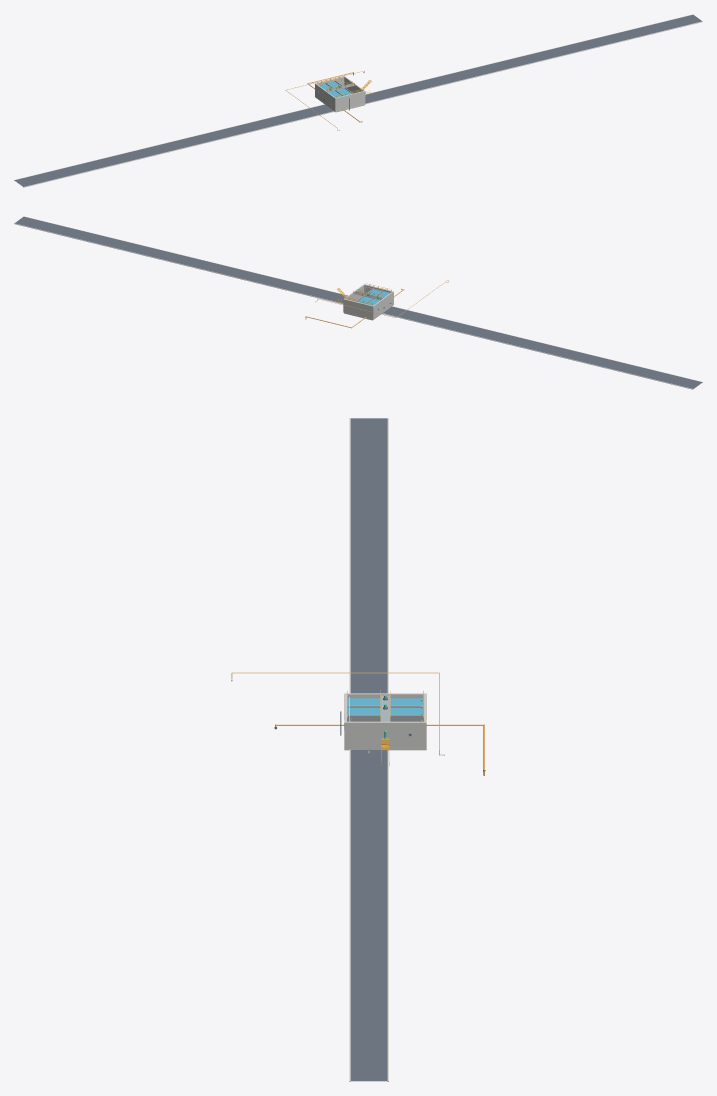
3 renders of one model, top to bottom at view 1: azimuth 30°, elevation 25°; view 2: azimuth 150°, elevation 25°; view 3: azimuth 270°, elevation 25°, orthographic. The views are drawn at different scales.
Parts seen in each view (by area): view 1: render-batch-3, render-batch-10, render-batch-8; view 2: render-batch-3, render-batch-10, render-batch-8; view 3: render-batch-3, render-batch-8, render-batch-10, render-batch-2.
Boxes of the visible parts, bbox=[...] form: render-batch-3: bbox=[14, 14, 701, 186]; render-batch-10: bbox=[14, 14, 702, 187]; render-batch-8: bbox=[315, 76, 365, 112]; render-batch-3: bbox=[15, 216, 702, 388]; render-batch-10: bbox=[14, 216, 702, 389]; render-batch-8: bbox=[343, 284, 393, 320]; render-batch-3: bbox=[350, 418, 387, 1081]; render-batch-8: bbox=[344, 693, 426, 750]; render-batch-10: bbox=[349, 418, 388, 1081]; render-batch-2: bbox=[348, 698, 422, 714].
Bounding box in the file's own units: 286 × 7.11 × 46.35.
